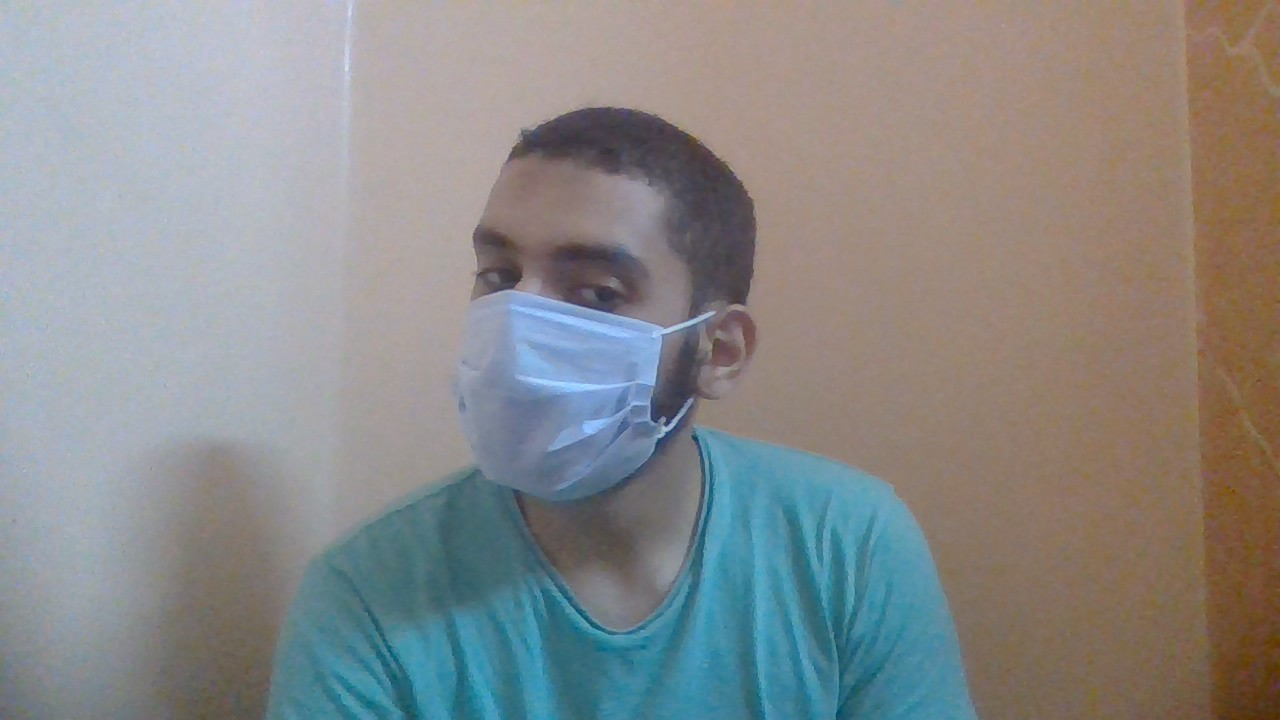mask: (452, 288, 662, 501)
